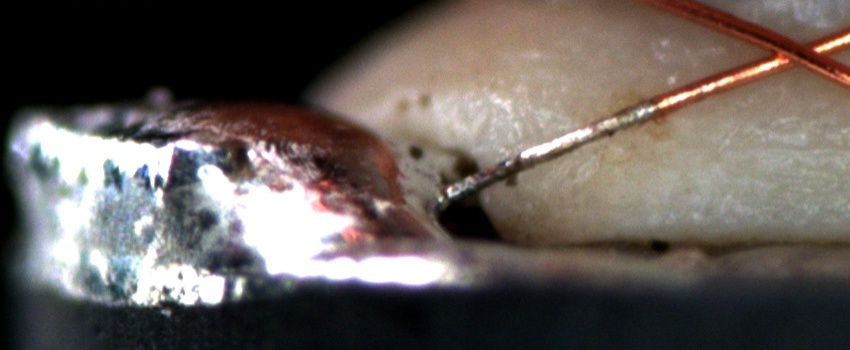CL: (743, 24, 840, 78)
DL: (651, 118, 850, 181)
TS: (442, 97, 658, 202)
